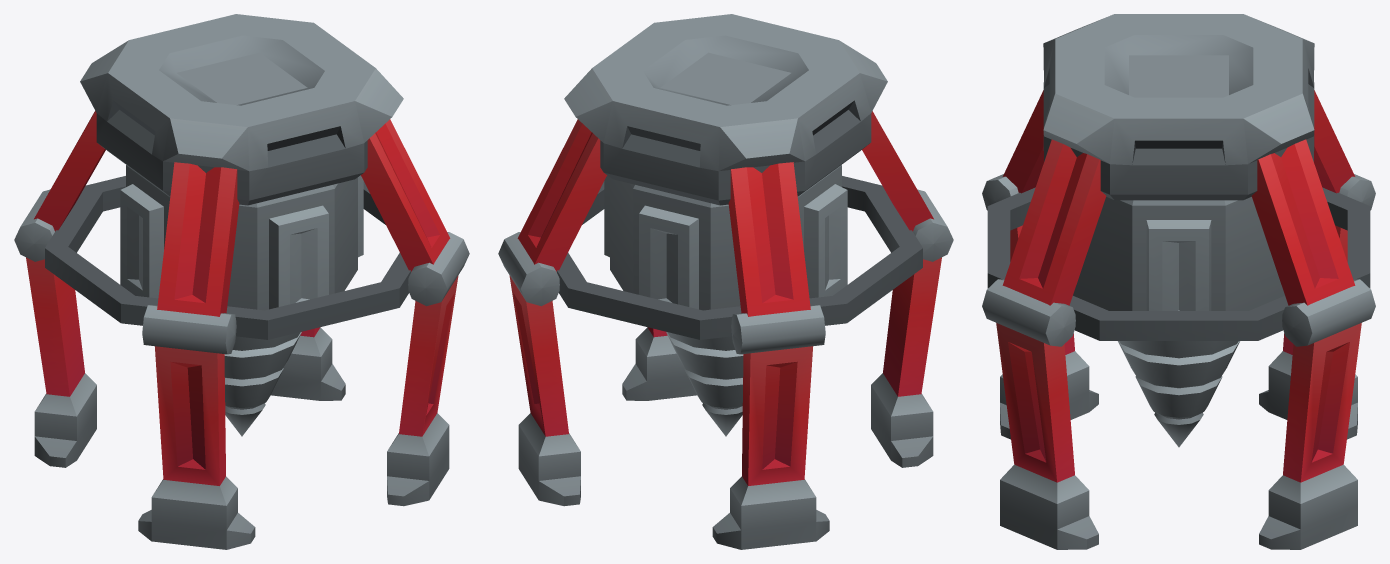
File: drill_structure.gltf
The picture shows the model from 3 angles, left to right: view 1: azimuth 30°, elevation 25°; view 2: azimuth 150°, elevation 25°; view 3: azimuth 270°, elevation 25°; orthographic projection. The views are drawn at different scales.
Visible parts, largest first — view 1: drill_structure, drill_module; view 2: drill_structure, drill_module; view 3: drill_structure, drill_module.
Part boxes in pixels (x1=…): drill_structure: x1=14, y1=14, x2=469, y2=549; drill_module: x1=120, y1=165, x2=363, y2=436; drill_structure: x1=498, y1=14, x2=953, y2=549; drill_module: x1=604, y1=165, x2=847, y2=436; drill_structure: x1=982, y1=14, x2=1375, y2=549; drill_module: x1=1073, y1=197, x2=1284, y2=447.
Bounding box in the file's own units: 1.75 × 2 × 1.75.
1 material, 1 textured.
